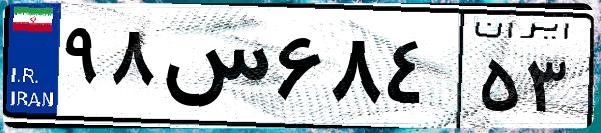3: (525, 38, 570, 115)
4: (385, 28, 445, 110)
5: (475, 38, 525, 113)
6: (270, 28, 330, 110)
8: (330, 28, 385, 110), (110, 28, 158, 98)
9: (57, 26, 110, 100)
س: (158, 20, 270, 120)
